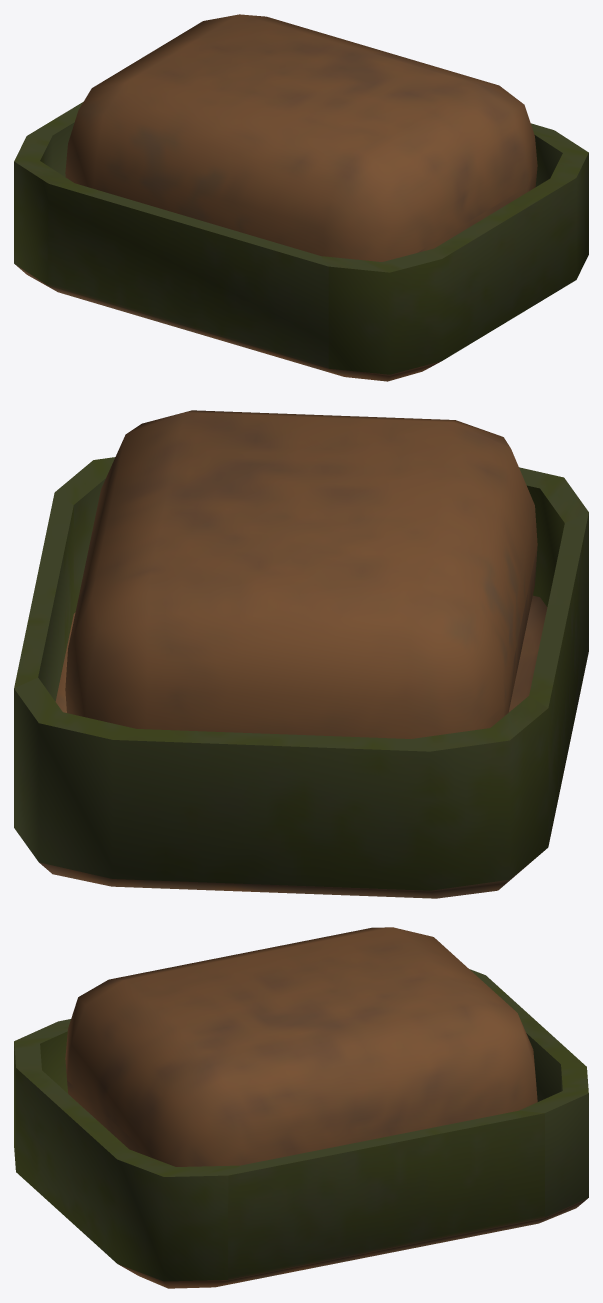
File: soap.fbx
The picture shows the model from 3 angles, top to bottom: view 1: azimuth 30°, elevation 25°; view 2: azimuth 150°, elevation 25°; view 3: azimuth 270°, elevation 25°; orthographic projection. The views are drawn at different scales.
Parts seen in each view (by area): view 1: Cube.032; view 2: Cube.032; view 3: Cube.032.
Boxes of the visible parts, x1,y1,x2,y2 form: Cube.032: (14,14,588,381); Cube.032: (14,410,588,898); Cube.032: (14,927,588,1288).
Bounding box in the file's own units: 19.18 × 8.18 × 21.23.
Materials: 1 (1 with a texture image).
